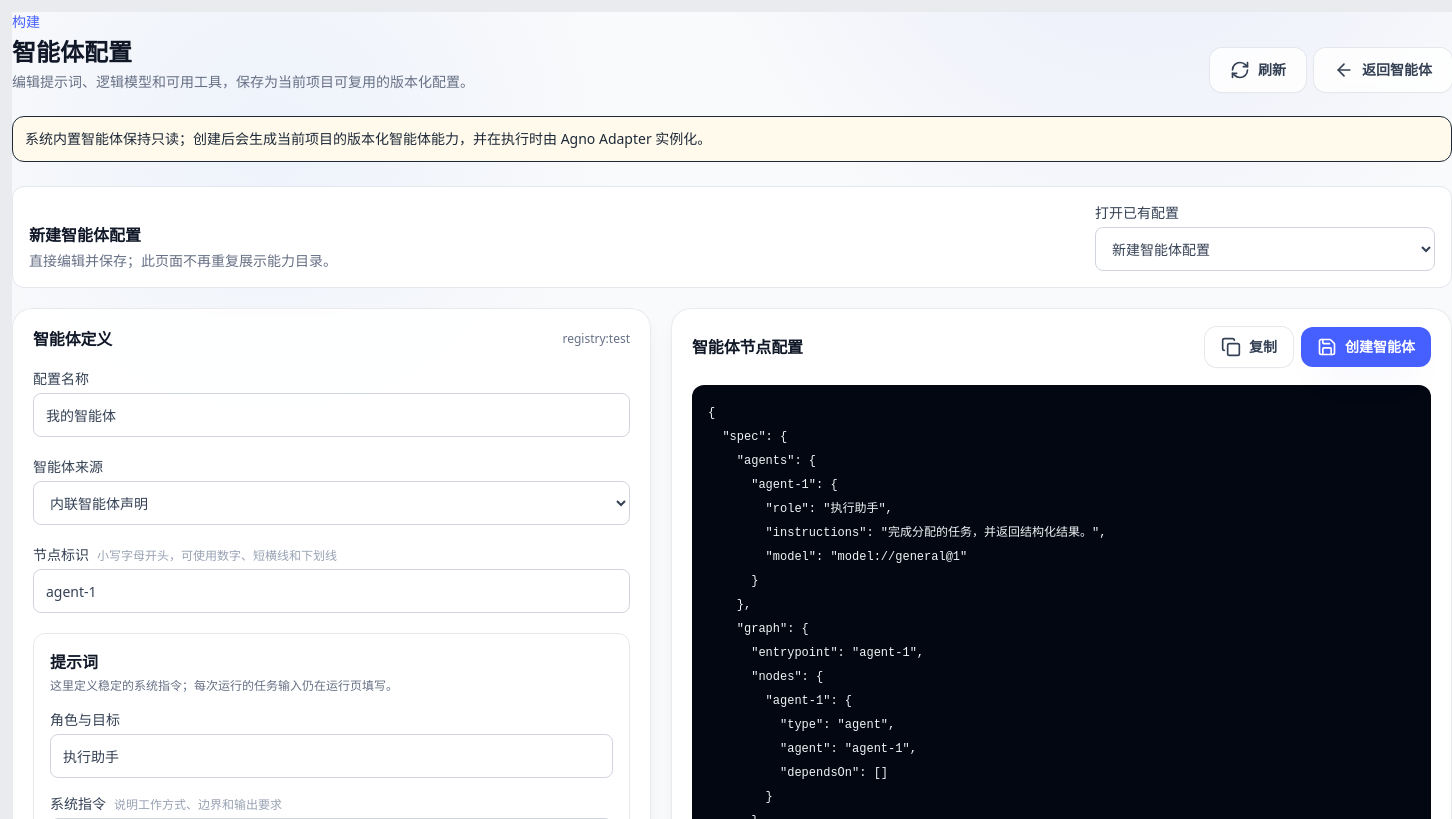
Test case: registry configuration pages › shows save failures next to the agent save action
Click the button "创建智能体".
click(1366, 347)  # box [1301, 327, 1431, 367]
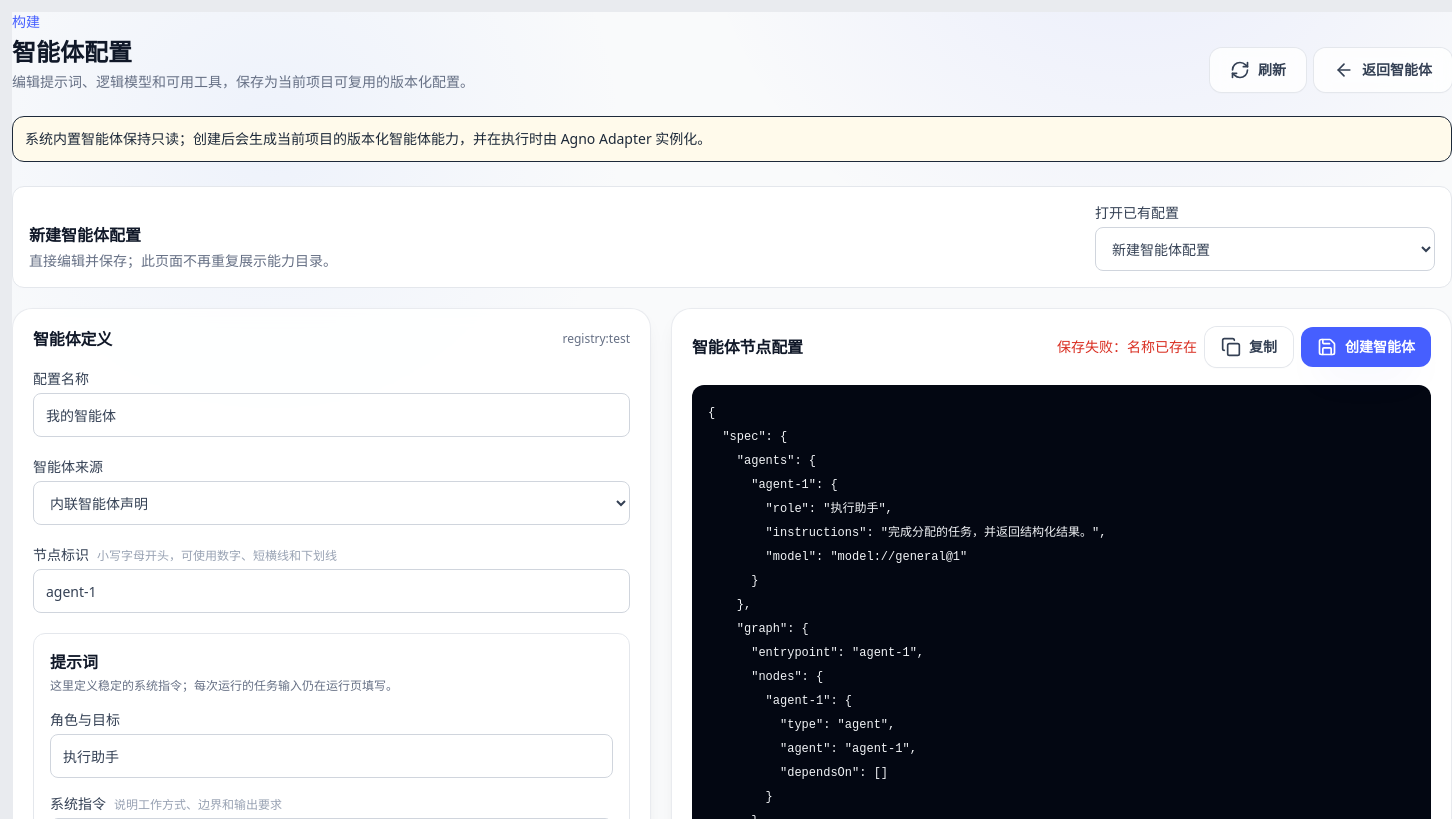
Check: the message reads "保存失败：名称已存在", box [1057, 337, 1197, 356]
